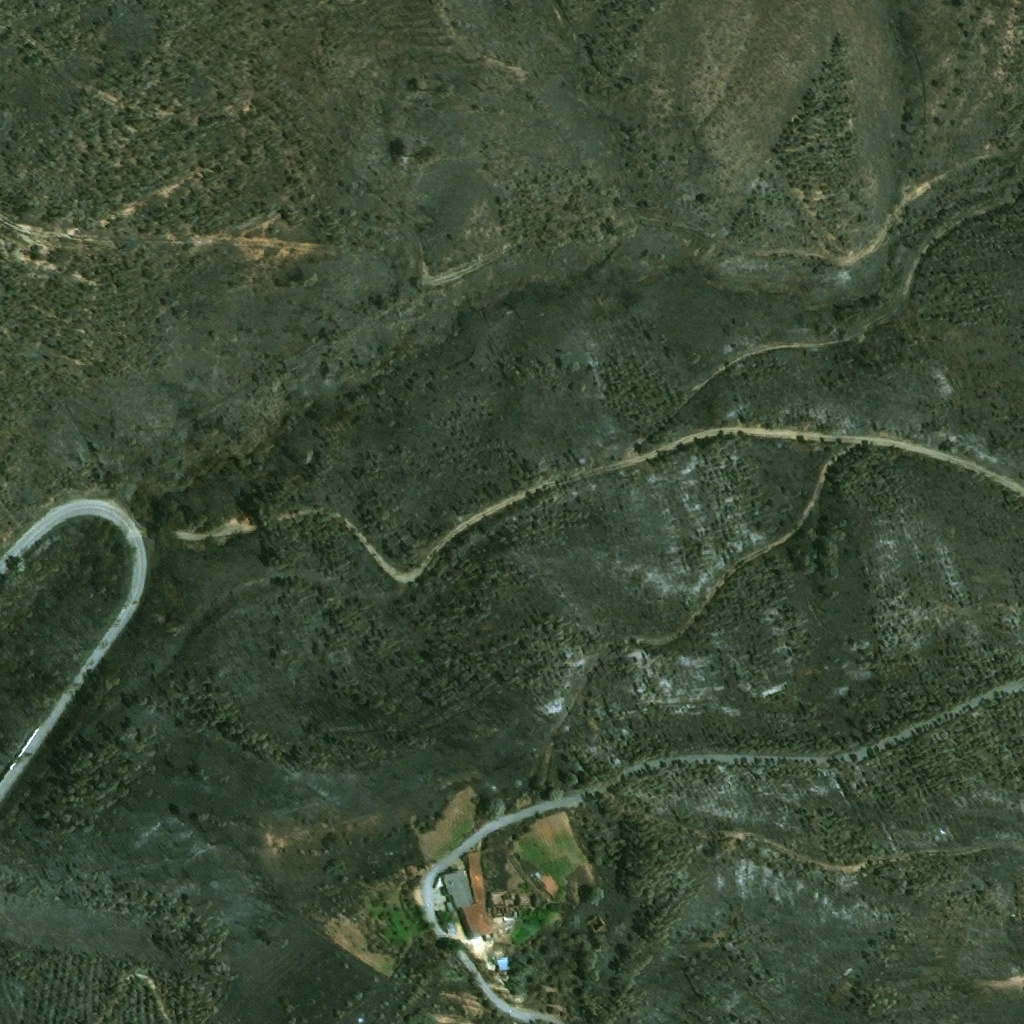0 no-damage: (464, 852, 489, 902), (444, 870, 475, 909), (462, 901, 494, 937), (498, 957, 514, 977)
3 destroyed: (492, 892, 539, 916)
